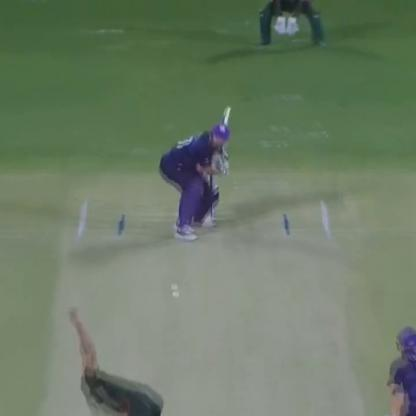ball: (162, 278, 184, 290), (167, 288, 180, 303)
bat: (211, 98, 235, 152)
pitch: (40, 188, 362, 416)
